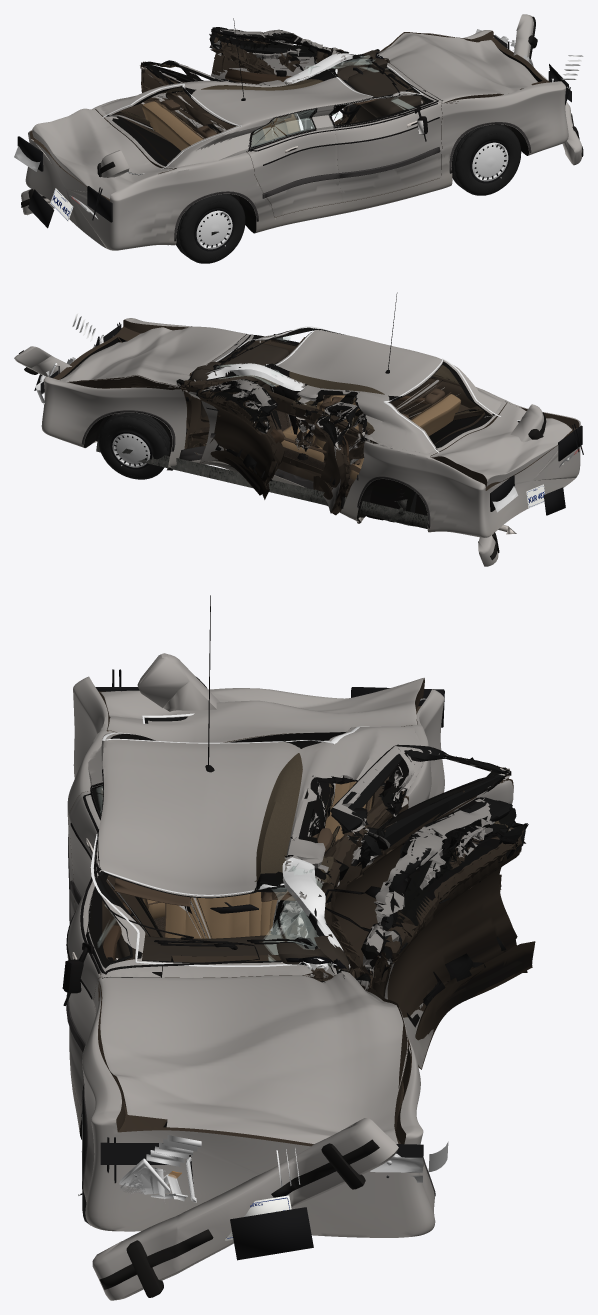
The model's file is sedan87_side_d3_lod1.glb.
The picture shows the model from 3 angles, top to bottom: view 1: azimuth 30°, elevation 25°; view 2: azimuth 150°, elevation 25°; view 3: azimuth 270°, elevation 25°; orthographic projection. The views are drawn at different scales.
Parts seen in each view (by area): view 1: Body, Door_FR, Hood, Door_RR, Trunk, Interior, Door_FL, Wheel_FR_mesh, Wheel_RR_mesh, Ends, Glass, Trim_FR (+8 smaller); view 2: Body, Hood, Door_FL, Trunk, Interior, Wheel_FL_mesh, Underbody, Ends, Door_RL, Glass, Trim, Bumper_R (+6 smaller); view 3: Body, Hood, Door_FL, Bumper_F, Trunk, Interior, Ends, Door_RL, Glass, Door_FR, Glass_RL, Trim_FR (+5 smaller).
Boxes of the visible parts, box(x1,y1,x2,y2) form: Body: box(25, 30, 568, 250); Door_FR: box(328, 90, 442, 202); Hood: box(375, 32, 537, 103); Door_RR: box(246, 107, 341, 217); Trunk: box(32, 108, 172, 199); Interior: box(142, 50, 424, 150); Door_FL: box(209, 29, 348, 80); Wheel_FR_mesh: box(451, 124, 521, 195); Wheel_RR_mesh: box(176, 194, 245, 263); Ends: box(14, 29, 583, 228); Glass: box(102, 53, 423, 175); Trim_FR: box(329, 70, 440, 178); Body: box(41, 318, 580, 537); Hood: box(59, 326, 247, 388); Door_FL: box(196, 379, 285, 499); Trunk: box(430, 403, 571, 486); Interior: box(190, 337, 460, 480); Wheel_FL_mesh: box(98, 412, 170, 479); Underbody: box(96, 440, 516, 534); Ends: box(34, 313, 583, 515); Door_RL: box(313, 401, 358, 515); Glass: box(194, 326, 520, 452); Trim: box(81, 292, 430, 528); Bumper_R: box(478, 404, 546, 566); Body: box(67, 676, 444, 1237); Hood: box(98, 971, 407, 1143); Door_FL: box(361, 797, 535, 1069); Bumper_F: box(92, 1118, 398, 1300); Trunk: box(99, 677, 424, 742); Interior: box(114, 781, 372, 972); Ends: box(95, 669, 448, 1260); Door_RL: box(330, 745, 513, 986); Glass: box(90, 713, 369, 969); Door_FR: box(67, 836, 162, 1108); Glass_RL: box(331, 744, 507, 855); Trim_FR: box(62, 829, 259, 1052).
Size of the model in its own units: 5.07 by 1.97 by 2.02.
33 materials, 5 textured.
